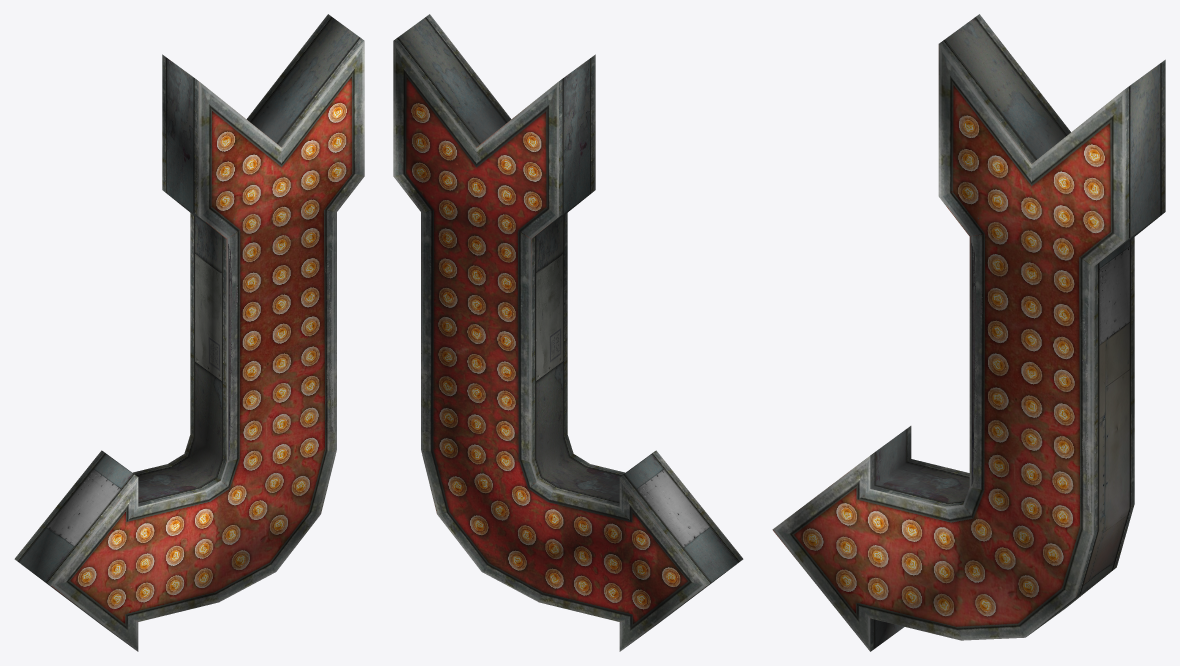
Rendered from Sign05.fbx.
3 views of the same model, side by side, from view 1: azimuth 30°, elevation 25°; view 2: azimuth 150°, elevation 25°; view 3: azimuth 330°, elevation 25° (orthographic). The views are drawn at different scales.
Visible parts, largest first — view 1: Sign05; view 2: Sign05; view 3: Sign05.
Boxes of the visible parts, <box> form: Sign05: <box>14,14,364,651</box>; Sign05: <box>393,14,743,651</box>; Sign05: <box>772,14,1165,651</box>.
Bounding box in the file's own units: 4.47 × 7.57 × 0.8993.
